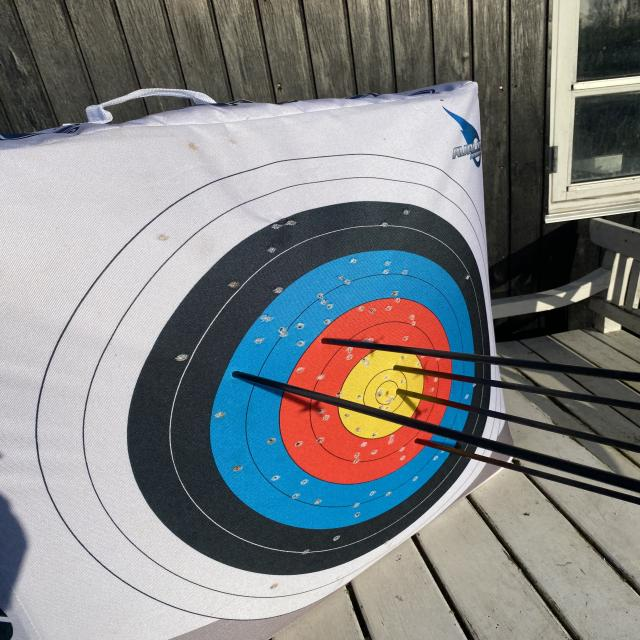Arrow_Blue: (224, 356, 260, 394)
Arrow_Red: (314, 329, 352, 368), (407, 434, 434, 460)
Arrow_Yellow: (390, 381, 424, 406), (389, 359, 414, 380)
